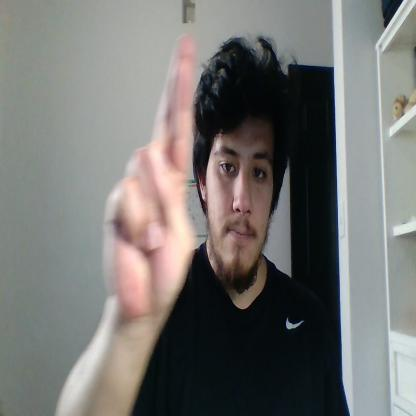R: (101, 34, 195, 318)
